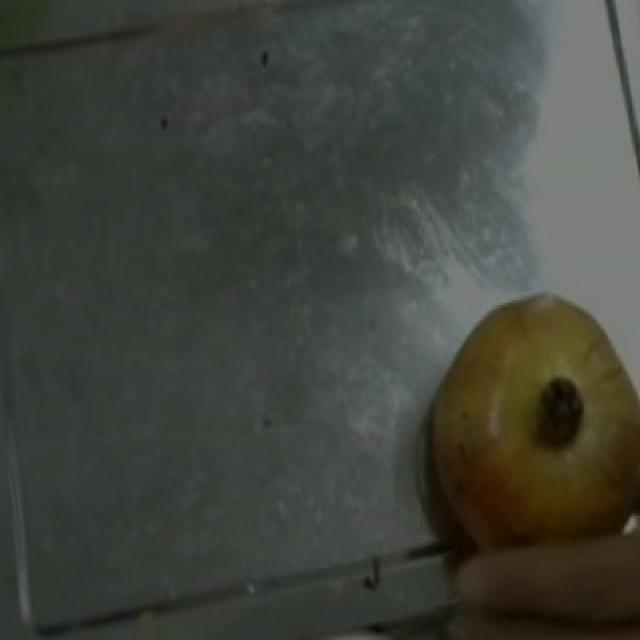fruit: (394, 263, 640, 566)
